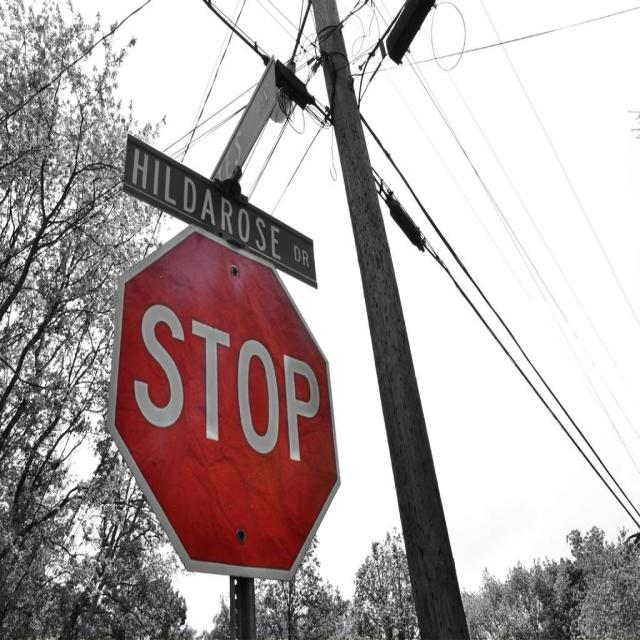Stop-sign: (104, 222, 341, 584)
